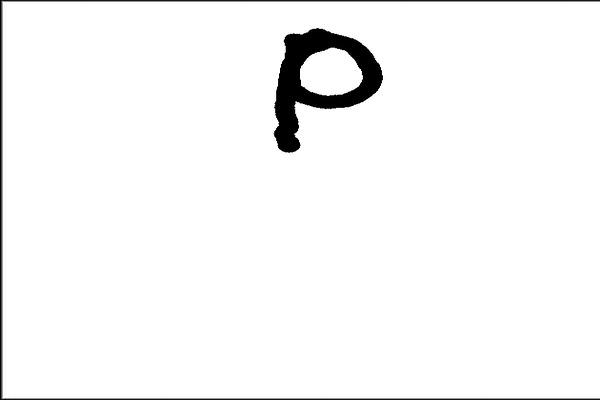P: (264, 19, 390, 163)
